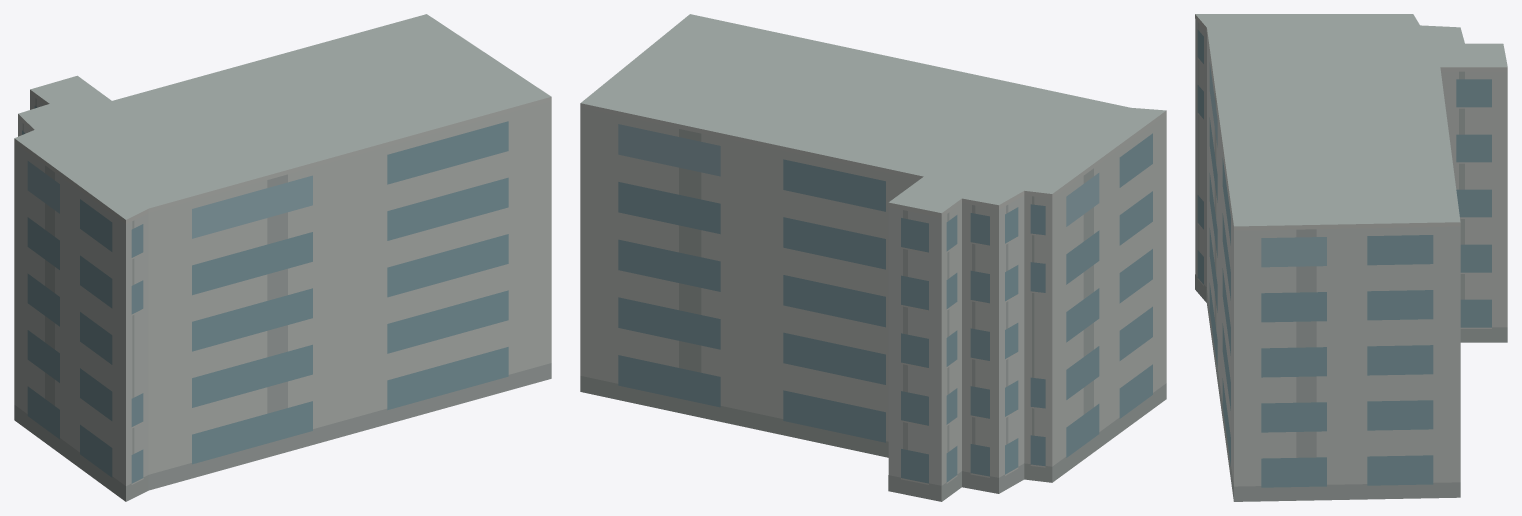
File: residential-2becf1af-d89f-431d-a2ab-10203438ceaa.glb
The picture shows the model from 3 angles, left to right: view 1: azimuth 30°, elevation 25°; view 2: azimuth 150°, elevation 25°; view 3: azimuth 270°, elevation 25°; orthographic projection. The views are drawn at different scales.
Parts seen in each view (by area): view 1: residential-2becf1af-d89f-431d-a2ab-10203438ceaa.tmp; view 2: residential-2becf1af-d89f-431d-a2ab-10203438ceaa.tmp; view 3: residential-2becf1af-d89f-431d-a2ab-10203438ceaa.tmp.
Boxes of the visible parts, x1,y1,x2,y2 form: residential-2becf1af-d89f-431d-a2ab-10203438ceaa.tmp: (14,14,551,501); residential-2becf1af-d89f-431d-a2ab-10203438ceaa.tmp: (580,14,1166,501); residential-2becf1af-d89f-431d-a2ab-10203438ceaa.tmp: (1195,14,1507,501).
Size of the model in its own units: 25.23 by 15.25 by 15.7.
